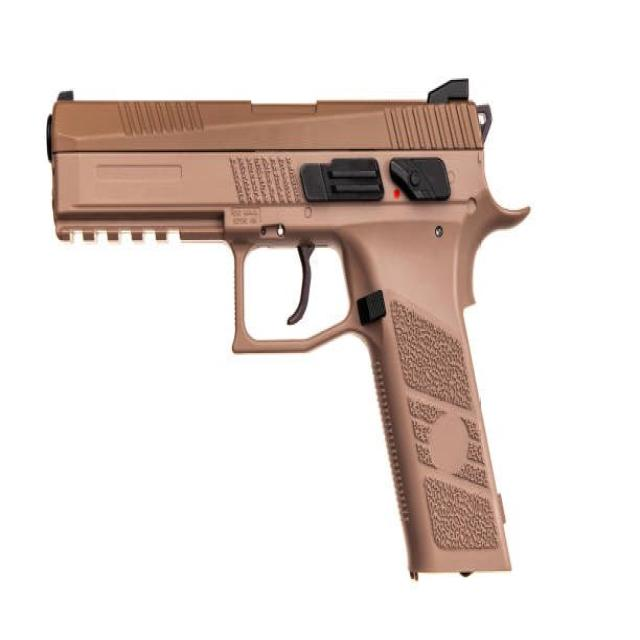pistol: (44, 63, 533, 594)
